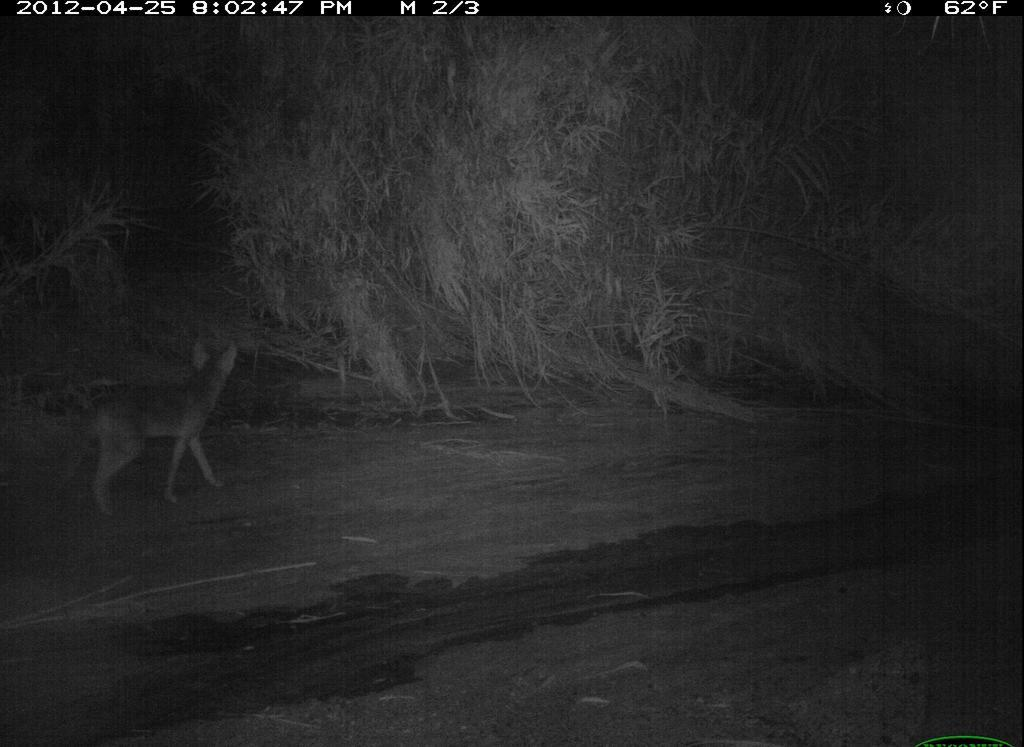coyote: (39, 327, 253, 530)
